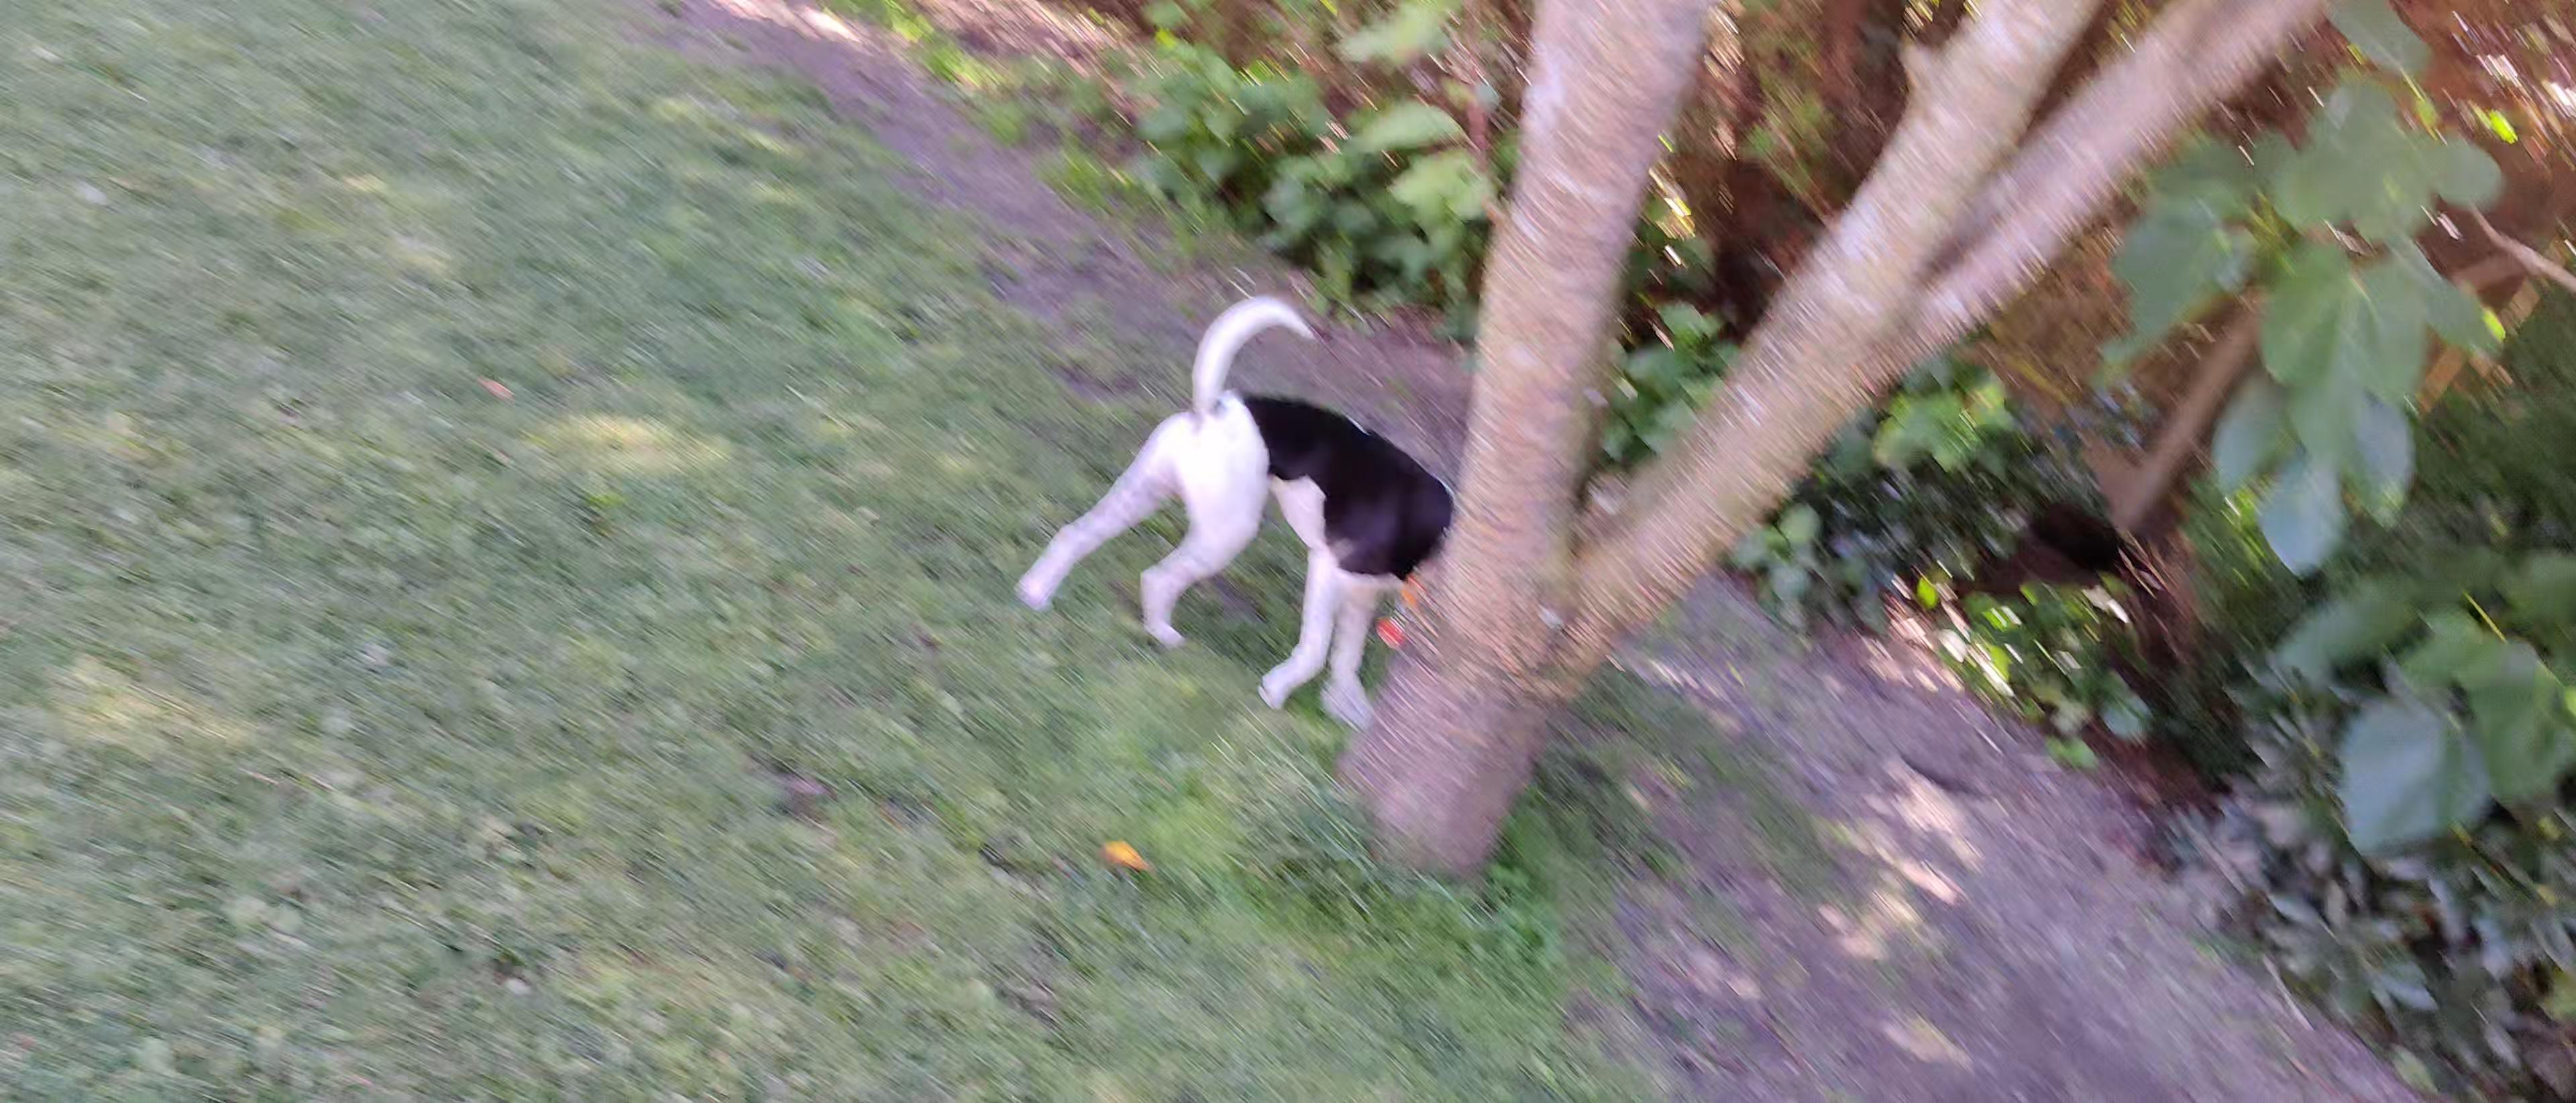Dog: (1010, 291, 1467, 730)
